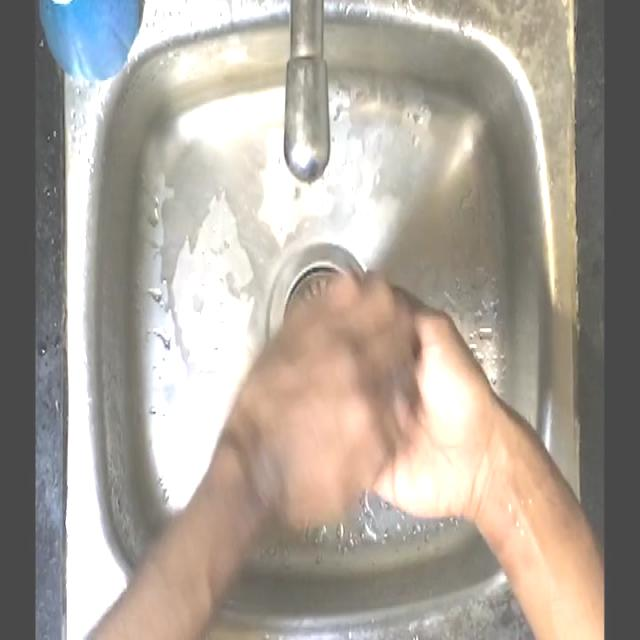step_4: (252, 265, 486, 518)
